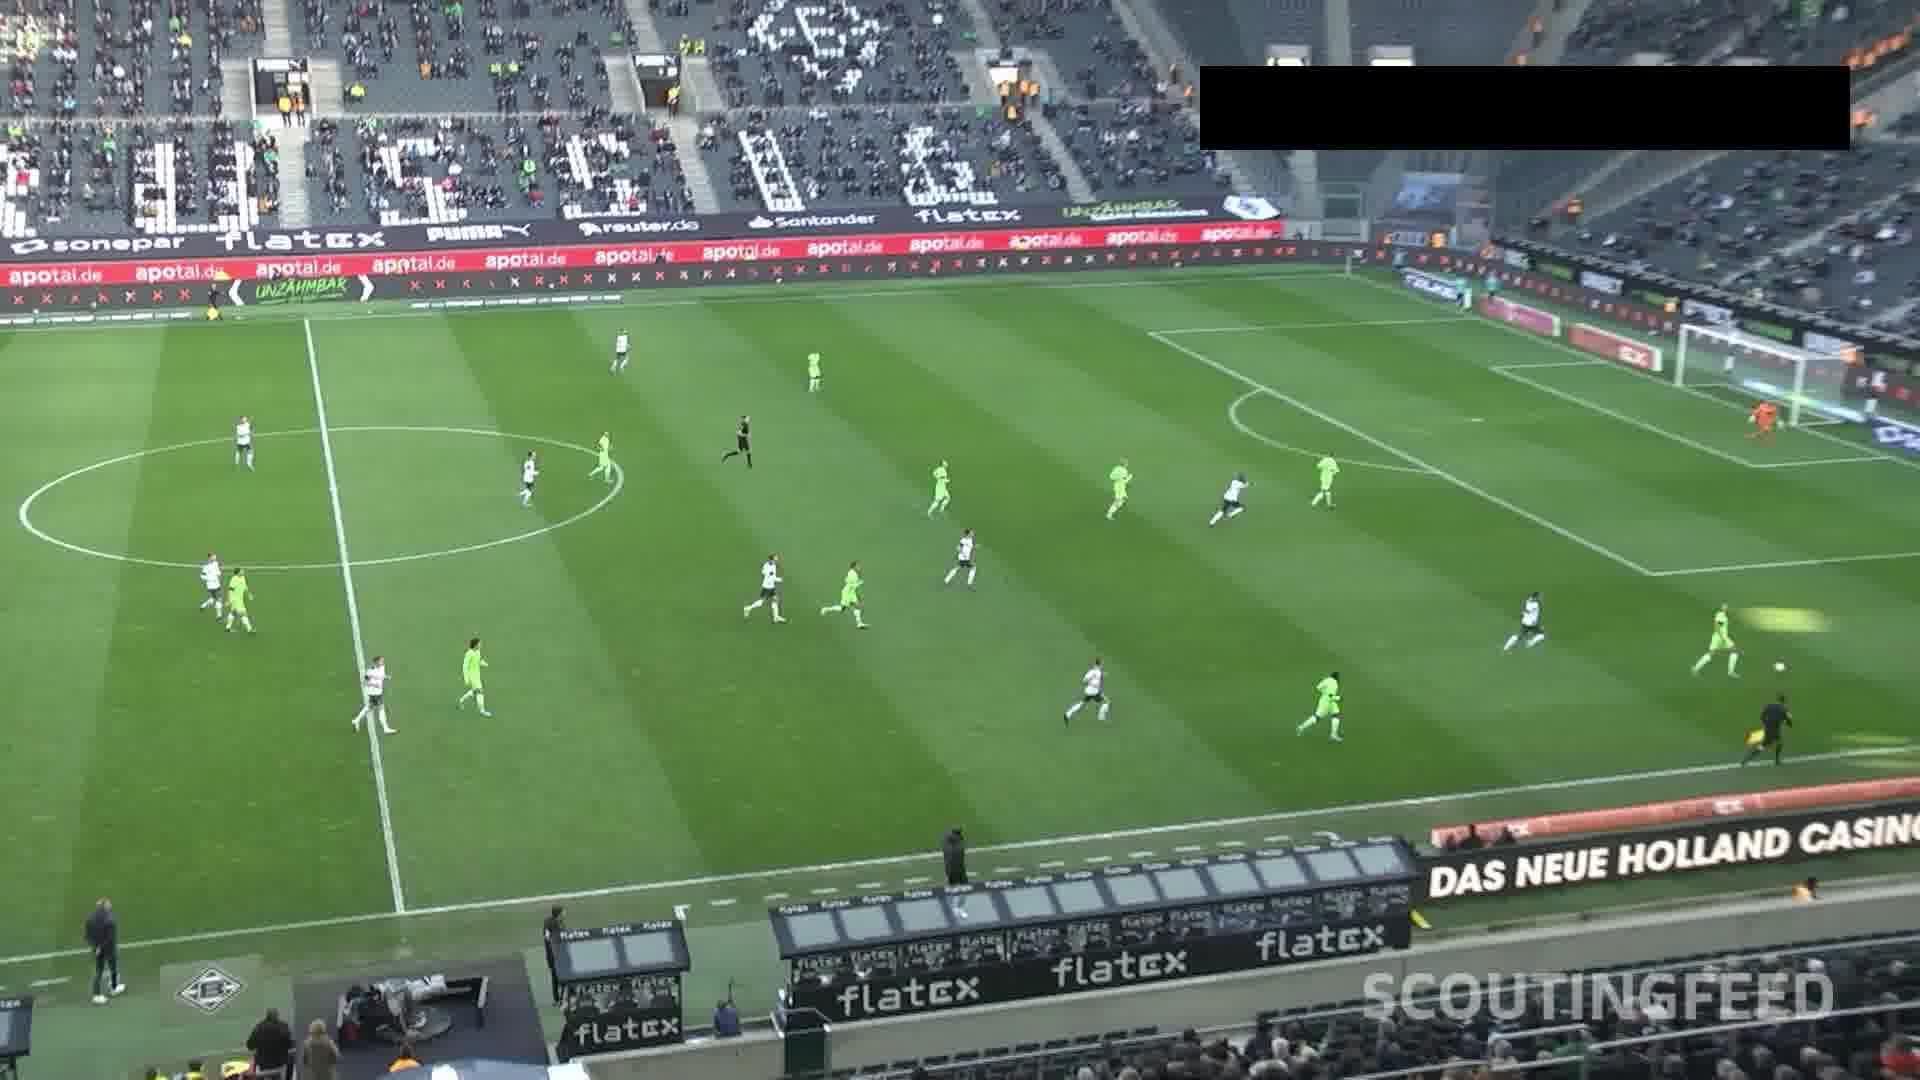football: (1775, 661, 1784, 671)
